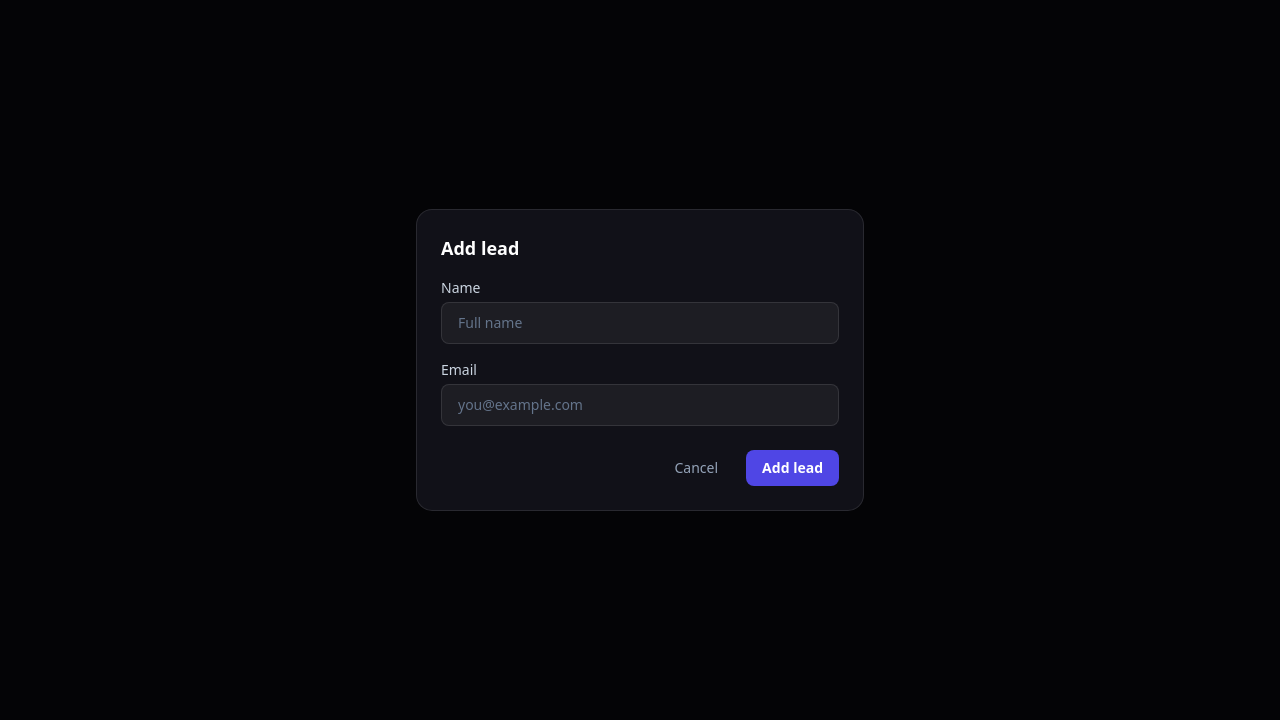
Test: AddLeadModal › shows error alert on 409 duplicate email
Type "Ada Lovelace" into the field labelled "Name" at (640, 323), box top-left (441, 302), bottom-right (839, 344)
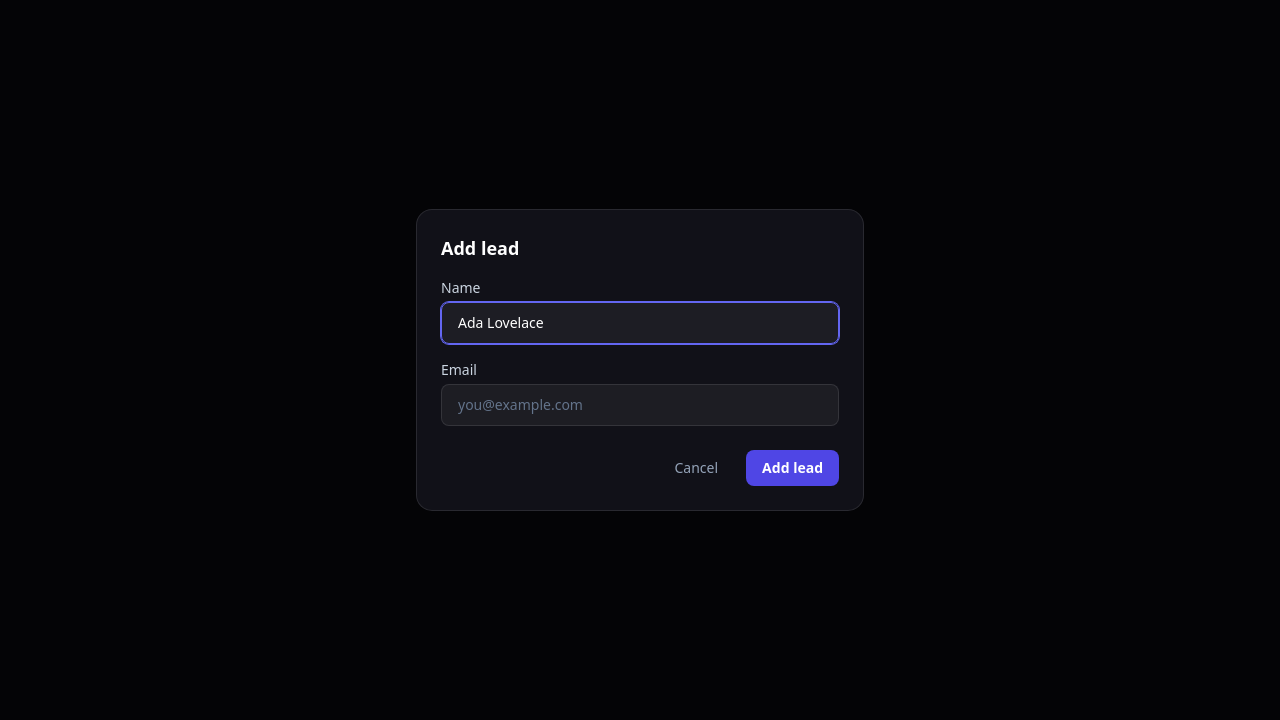
Type "ada@example.com" into the field labelled "Email" at (640, 405), box top-left (441, 384), bottom-right (839, 426)
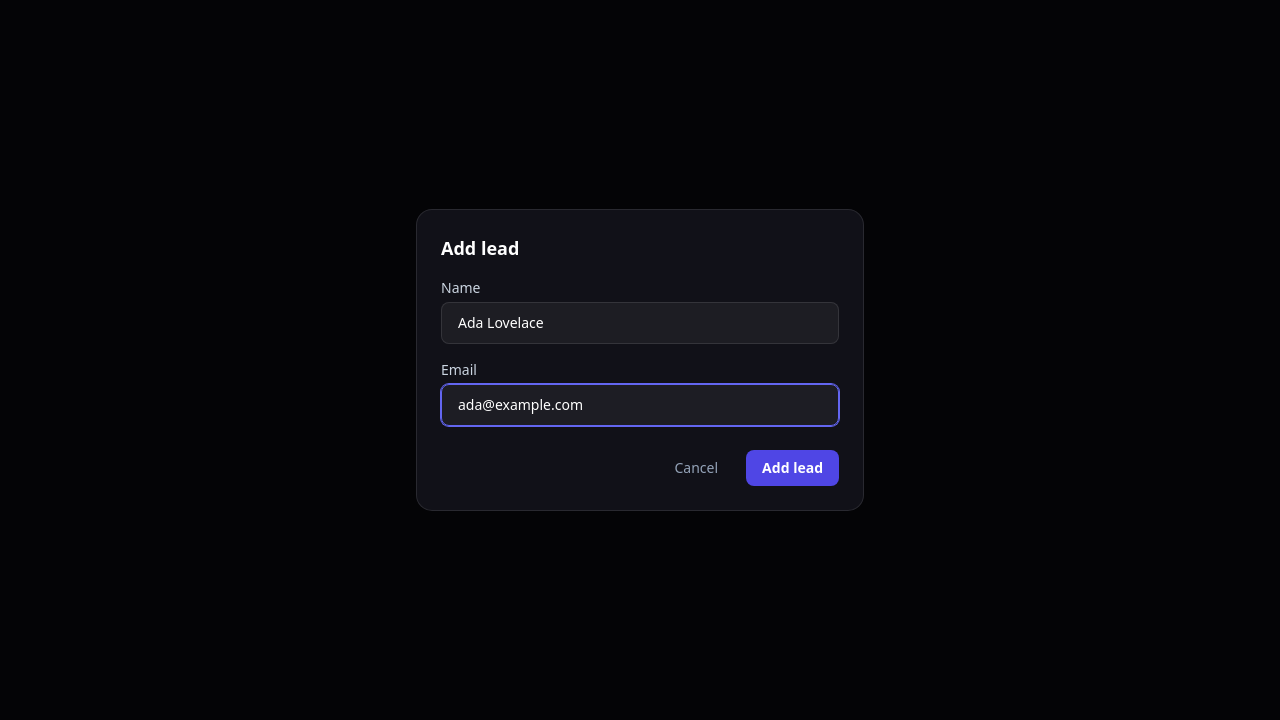
Click the button "Add lead" at (793, 468), box top-left (746, 450), bottom-right (839, 486)
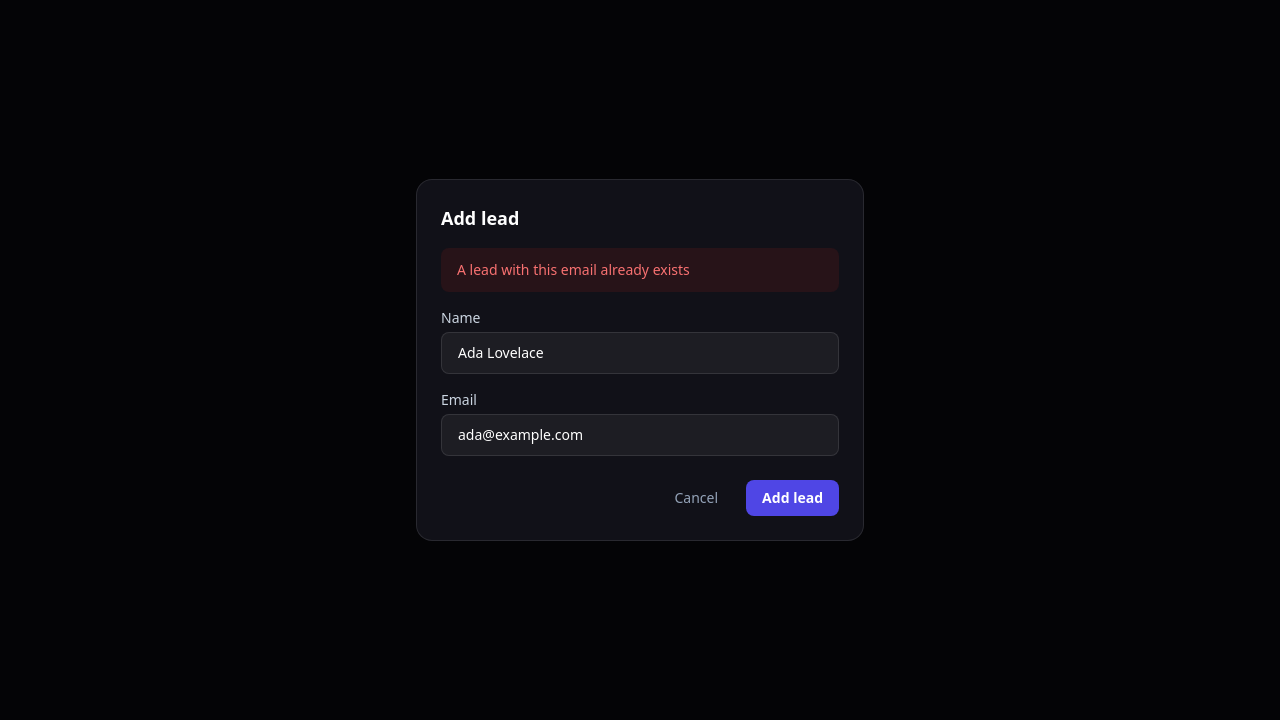
Expected: the message reads "A lead with this email already exists", top-left (457, 260), bottom-right (690, 279)
